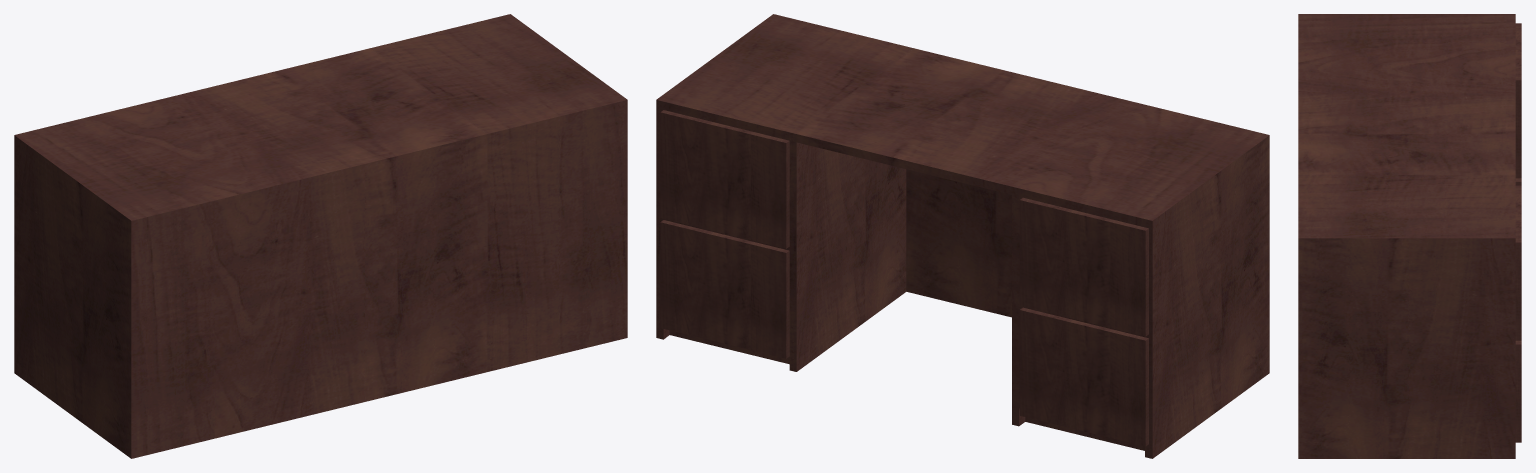
The model's file is credenza.FBX.
3 views of the same model, side by side, from view 1: azimuth 30°, elevation 25°; view 2: azimuth 150°, elevation 25°; view 3: azimuth 270°, elevation 25° (orthographic). The views are drawn at different scales.
Parts seen in each view (by area): view 1: credenza; view 2: credenza, cupboard_1, cupboard_002, cupboard_003, cupboard_004; view 3: credenza, cupboard_1, cupboard_003, cupboard_002.
Boxes of the visible parts, x1=… form: credenza: x1=14, y1=14, x2=627, y2=458; credenza: x1=656, y1=14, x2=1269, y2=458; cupboard_1: x1=660, y1=110, x2=789, y2=248; cupboard_002: x1=660, y1=220, x2=789, y2=358; cupboard_003: x1=1019, y1=197, x2=1148, y2=336; cupboard_004: x1=1019, y1=307, x2=1148, y2=446; credenza: x1=1298, y1=14, x2=1515, y2=458; cupboard_1: x1=1515, y1=185, x2=1521, y2=340; cupboard_003: x1=1515, y1=23, x2=1521, y2=178; cupboard_002: x1=1515, y1=340, x2=1521, y2=442.
Bounding box in the file's own units: 202 × 92.61 × 85.
Materials: 1 (1 with a texture image).
